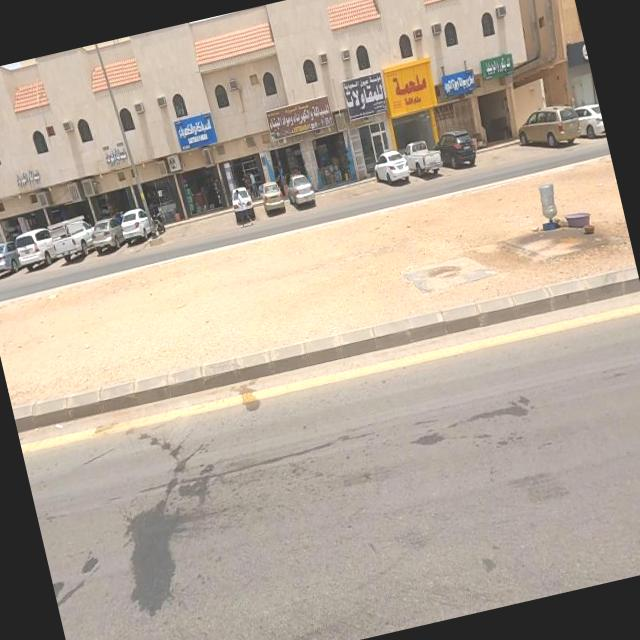debris: (494, 129, 602, 274), (532, 166, 630, 274)
